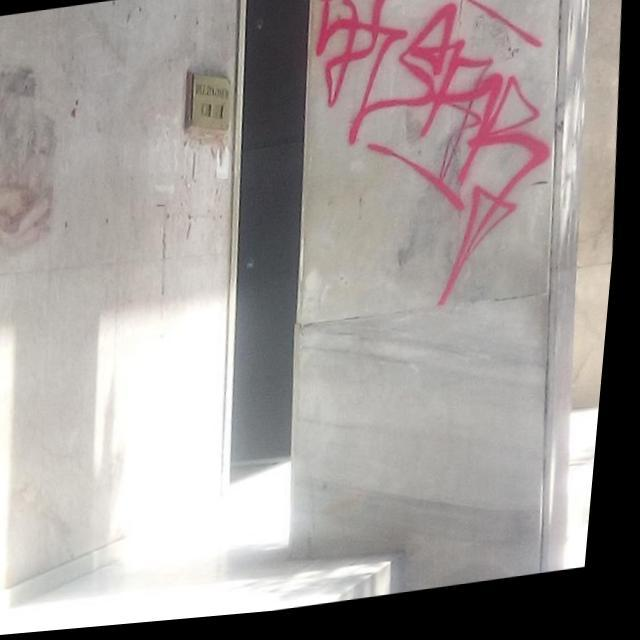-: (291, 0, 575, 335)
